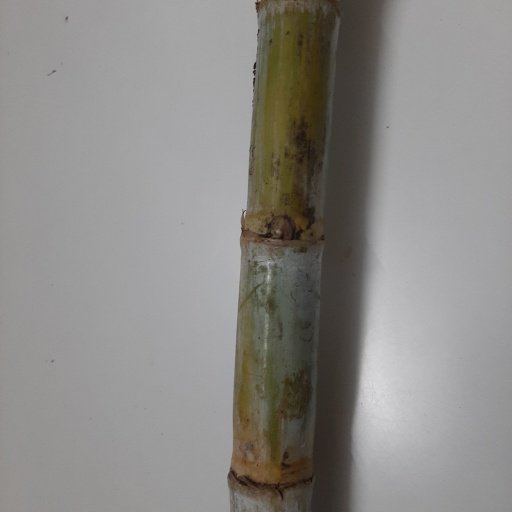Bud: (267, 214, 294, 241)
